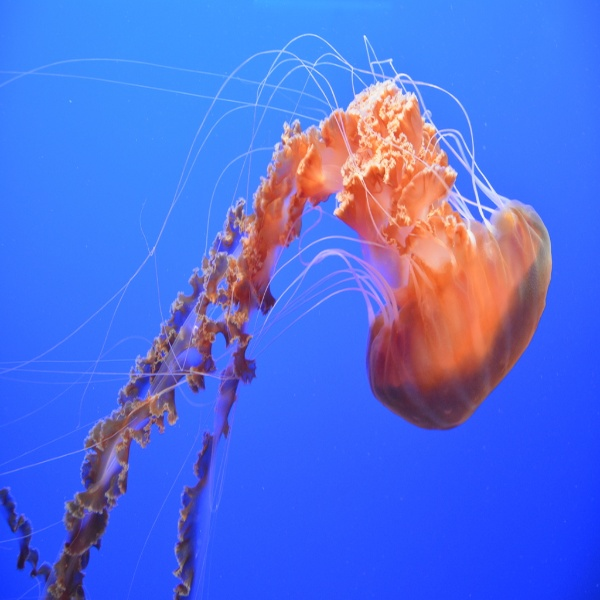Jellyfish: (0, 33, 552, 600)
